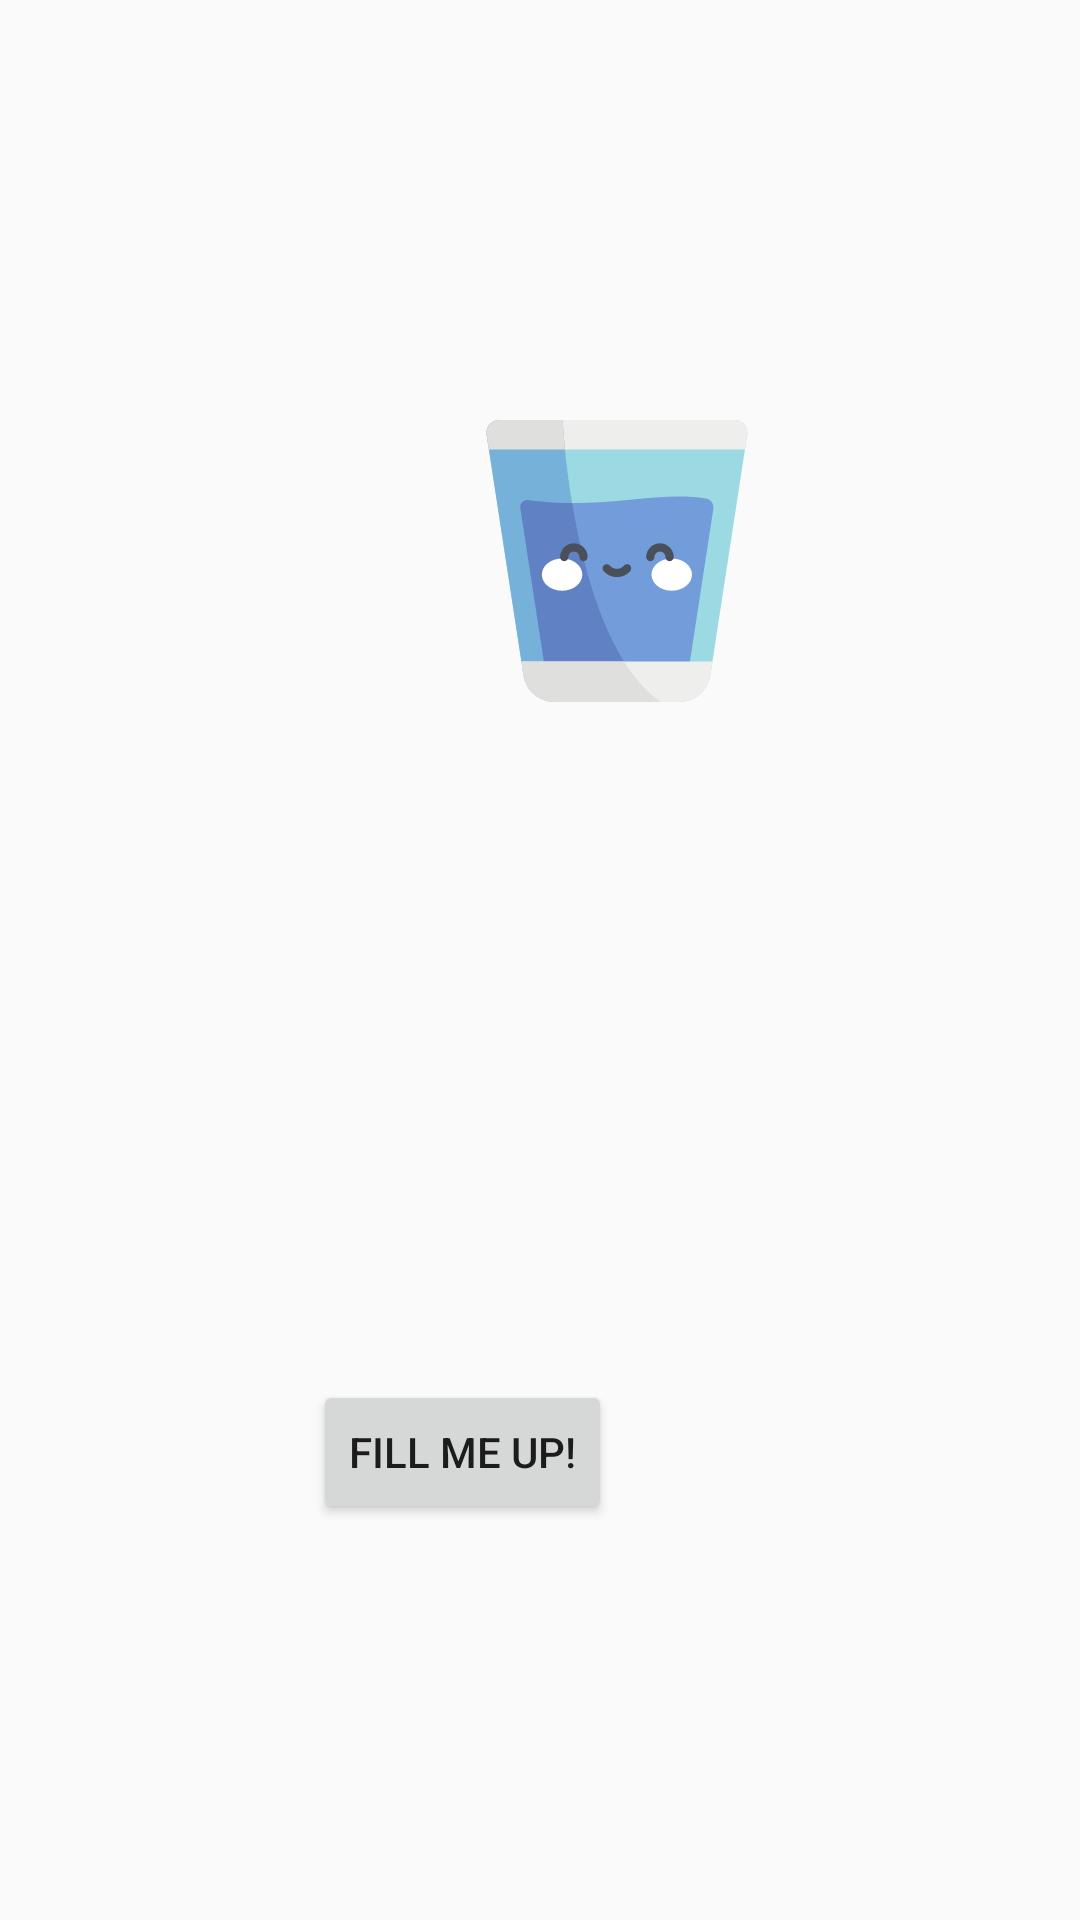

Icon click points for this 1080px×1920px phone screenshot, format [x,y]:
water glass: [617,561]
